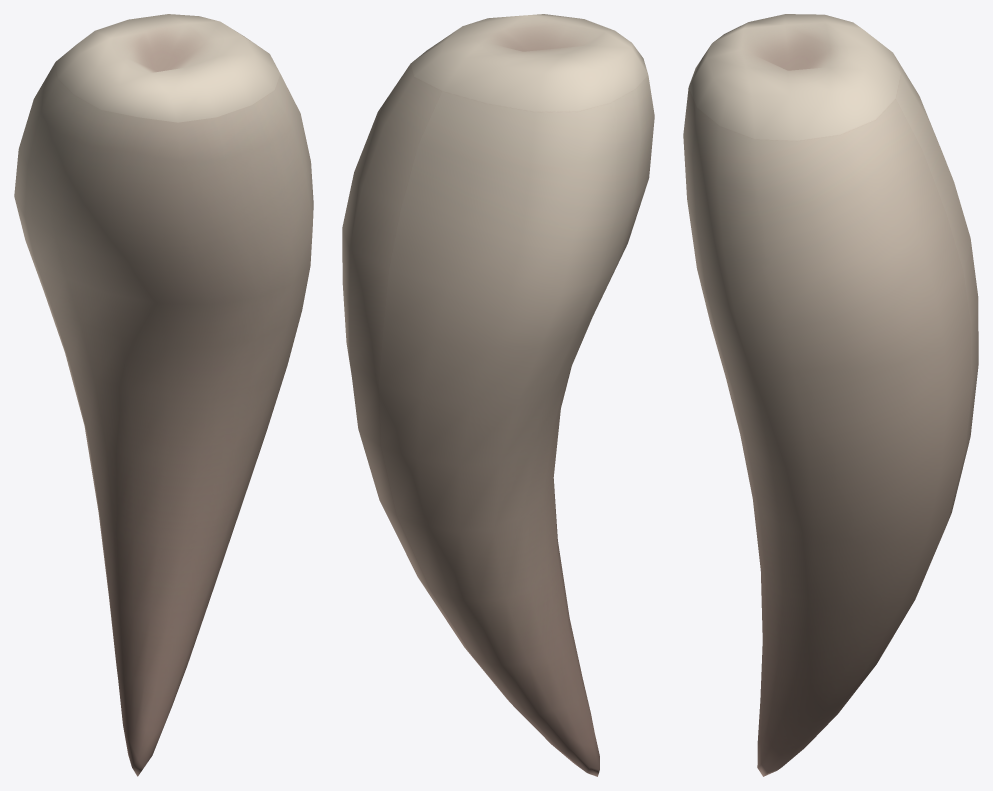
Rendered from BeastTooth.fbx.
3 renders of one model, left to right at view 1: azimuth 30°, elevation 25°; view 2: azimuth 150°, elevation 25°; view 3: azimuth 270°, elevation 25°, orthographic. The views are drawn at different scales.
Parts seen in each view (by area): view 1: Tooth; view 2: Tooth; view 3: Tooth.
Boxes of the visible parts, box(x1,y1,x2,y2) form: Tooth: box(14, 14, 313, 776); Tooth: box(342, 14, 654, 776); Tooth: box(683, 14, 978, 776).
Size of the model in its own units: 36.21 by 97.35 by 34.47.
1 material, 1 textured.
